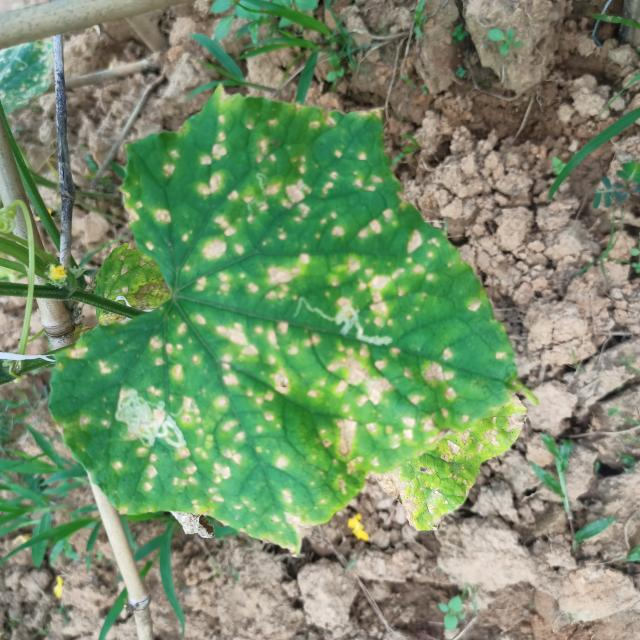disease_cucumber: (78, 100, 450, 536)
